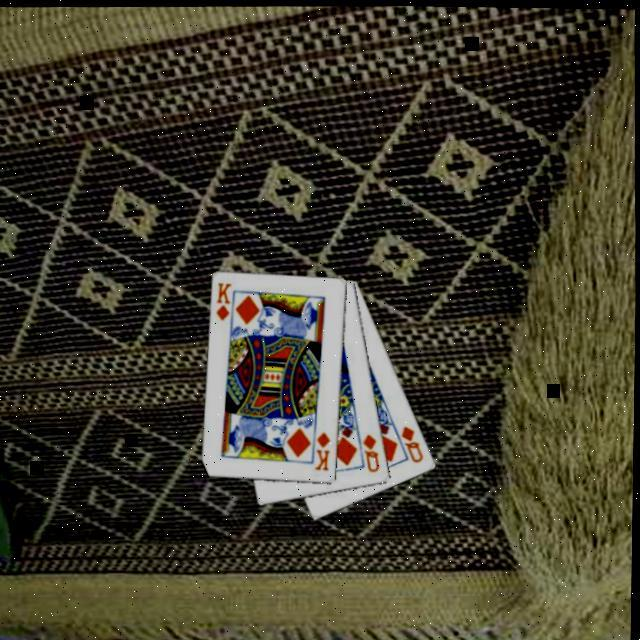KD: (213, 280, 236, 324), (314, 429, 336, 473)
QD: (400, 423, 429, 465), (361, 430, 385, 474)
